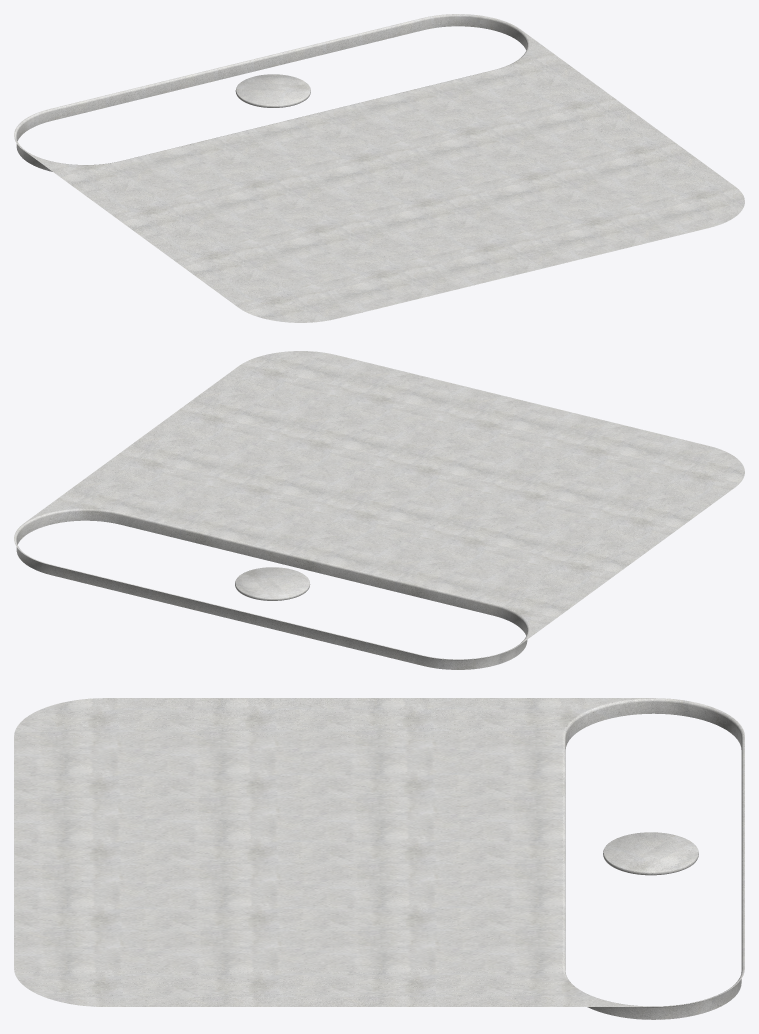
The model's file is A.Renewal.platform.glb.
3 views of the same model, one above another, from view 1: azimuth 30°, elevation 25°; view 2: azimuth 150°, elevation 25°; view 3: azimuth 270°, elevation 25° (orthographic). The views are drawn at different scales.
Visible parts, largest first — view 1: Cube, Circle_02.036; view 2: Cube, Circle_02.036; view 3: Cube, Circle_02.036.
Boxes of the visible parts, x1=… form: Cube: x1=14, y1=14, x2=744, y2=322; Circle_02.036: x1=235, y1=74, x2=310, y2=107; Cube: x1=14, y1=351, x2=744, y2=669; Circle_02.036: x1=235, y1=567, x2=310, y2=600; Cube: x1=14, y1=698, x2=744, y2=1019; Circle_02.036: x1=603, y1=832, x2=698, y2=875.
Size of the model in its own units: 4 by 0.0902 by 4.
Materials: 1 (1 with a texture image).
